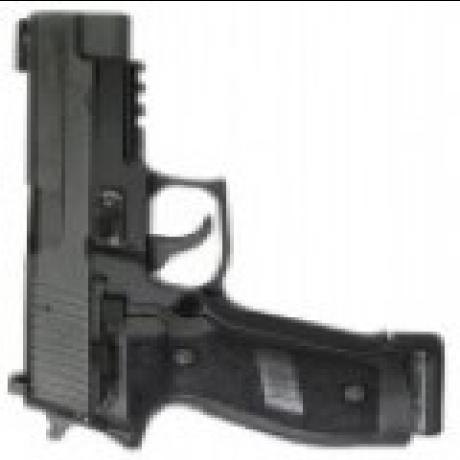weapon: (12, 9, 445, 452)
